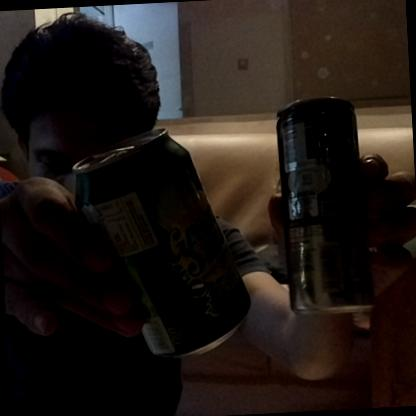alumunium_can: (64, 121, 257, 364), (268, 89, 380, 319)
